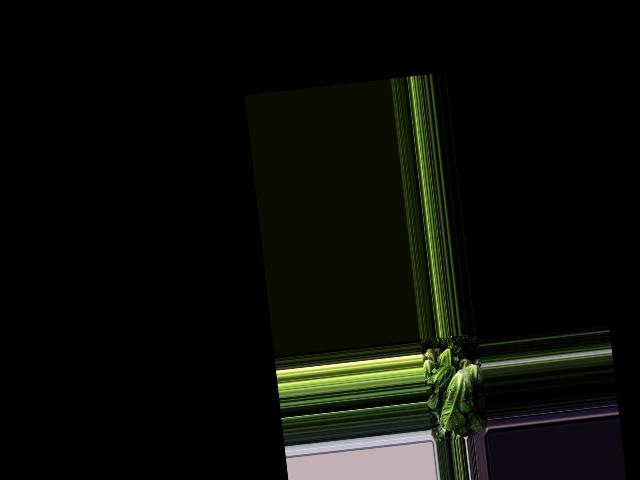lettuce: (425, 362, 458, 411)
